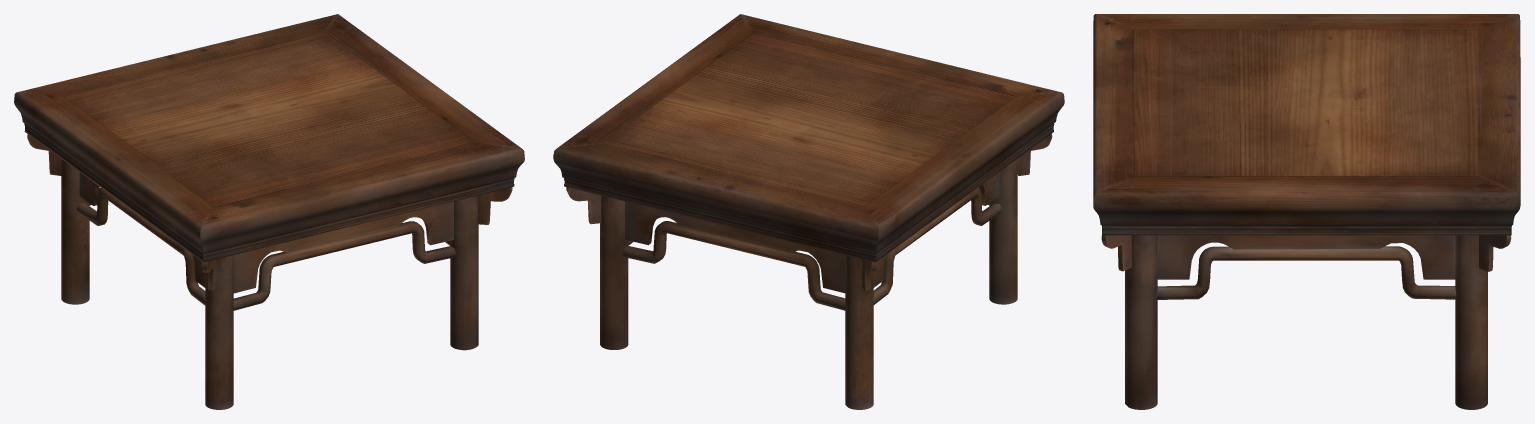
The model's file is chinese_tea_table.glb.
The picture shows the model from 3 angles, left to right: view 1: azimuth 30°, elevation 25°; view 2: azimuth 150°, elevation 25°; view 3: azimuth 270°, elevation 25°; orthographic projection. The views are drawn at different scales.
Visible parts, largest first — view 1: chinese_tea_table; view 2: chinese_tea_table; view 3: chinese_tea_table.
Boxes of the visible parts, box(x1,y1,x2,y2) form: chinese_tea_table: box(14, 14, 524, 409); chinese_tea_table: box(553, 14, 1064, 409); chinese_tea_table: box(1093, 14, 1520, 409).
Size of the model in its own units: 0.8409 by 0.4986 by 0.8351.
1 material, 1 textured.
